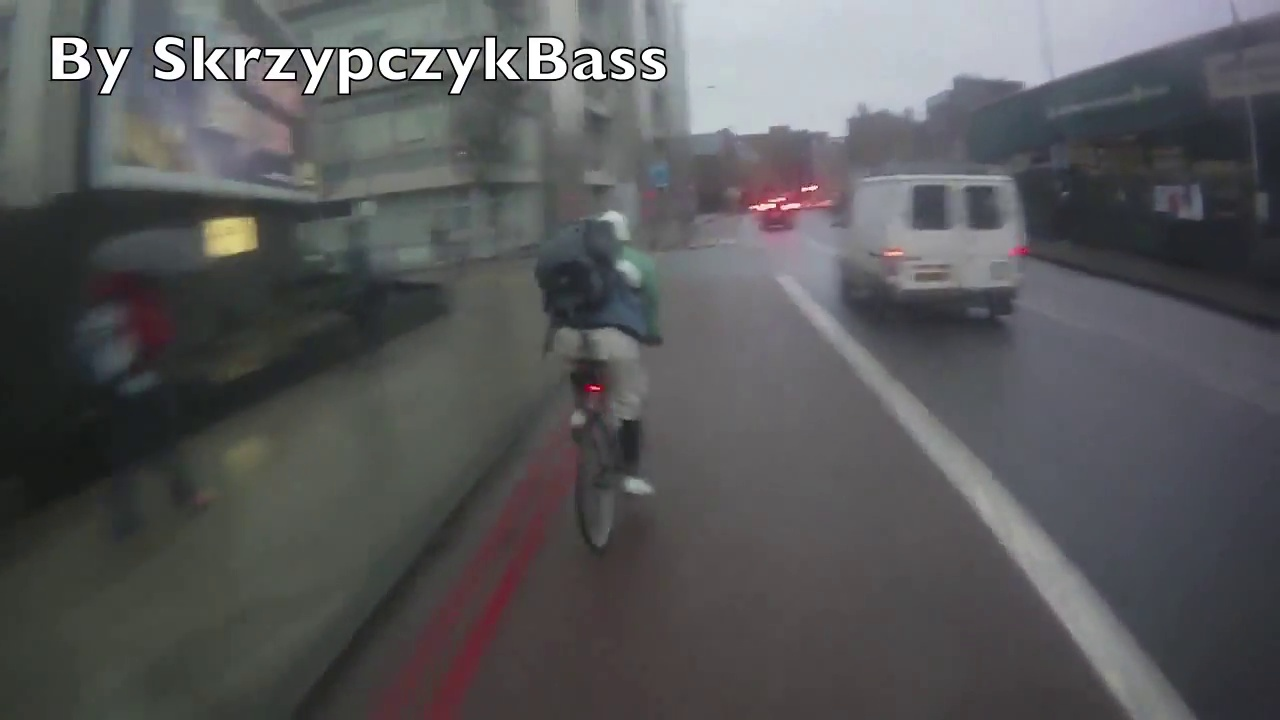cyclist_back: (547, 202, 669, 553)
